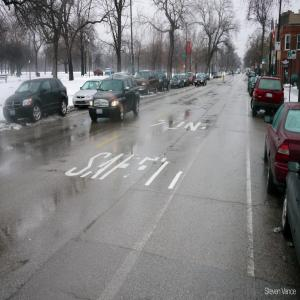Vehicle-registration-plate: (11, 110, 16, 116), (97, 109, 103, 114), (267, 93, 273, 98)
